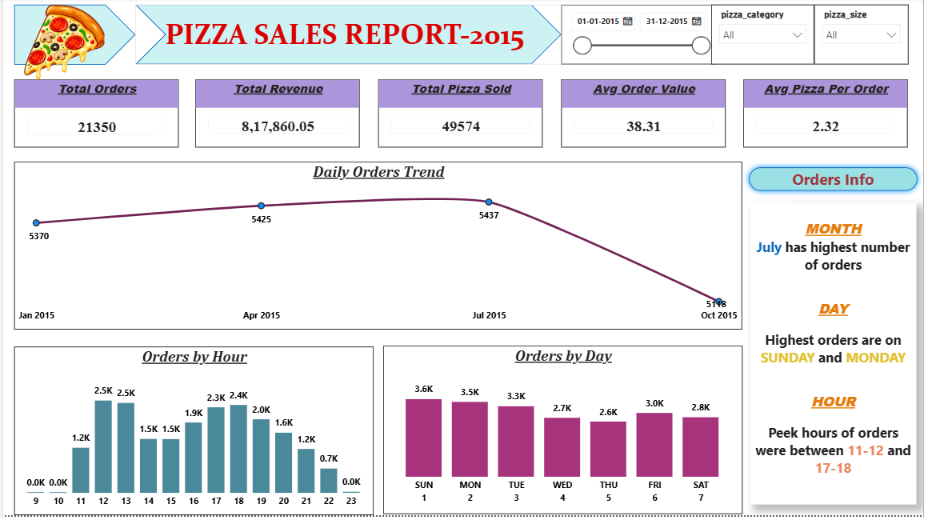

This screenshot's page, from the dashboard's own definition file:
{"tool":"powerbi","page":{"name":"Overview","canvas":[1280,720],"ordinal":0},"visuals":[{"type":"cardVisual","title":"Total Orders","fields":{"Data":["Measures Table.Total Orders"]},"box":[15.1,113.9,229.2,94.7],"z":0},{"type":"cardVisual","title":"Total Revenue","fields":{"Data":["Measures Table.Total Revenue"]},"box":[267,113.6,229.2,94],"z":1000},{"type":"cardVisual","title":"Avg Order Value","fields":{"Data":["Measures Table.Avg Order Value"]},"box":[776.1,113.6,229.2,94],"z":2000},{"type":"cardVisual","title":"Avg Pizza Per Order","fields":{"Data":["Measures Table.Avg pizza per order"]},"box":[1030,113.6,229.2,94],"z":3000},{"type":"cardVisual","title":"Total Pizza Sold","fields":{"Data":["Measures Table.Total Pizza Sold"]},"box":[522.3,113.6,229.2,94],"z":4000},{"type":"shape","box":[15.1,9.3,168.8,83.7],"z":5000},{"type":"shape","box":[183.4,9.8,593.1,83.2],"z":6000},{"type":"textbox","box":[15,313,229,150],"z":7000},{"type":"image","box":[0,9.7,168.8,104.3],"z":8000},{"type":"lineChart","title":"Daily Orders Trend","fields":{"Y":["Count(pizza_sales pizza_sales_raw.order_id)"],"Category":["pizza_sales pizza_sales_raw.order_date.Variation.Date Hierarchy.Year","pizza_sales pizza_sales_raw.order_date.Variation.Date Hierarchy.Quarter","pizza_sales pizza_sales_raw.order_date.Variation.Date Hierarchy.Month","pizza_sales pizza_sales_raw.order_date.Variation.Date Hierarchy.Day"]},"box":[15.3,228.2,1012.9,233.7],"z":9000},{"type":"columnChart","title":"Orders by Day","fields":{"Category":["pizza_sales pizza_sales_raw.Day Number","pizza_sales pizza_sales_raw.Day short"],"Y":["Measures Table.Total Orders"]},"box":[528.7,484.2,500,234.6],"z":10000},{"type":"columnChart","title":"Orders by Hour","fields":{"Y":["Measures Table.Total Orders"],"Category":["pizza_sales pizza_sales_raw.hour"]},"box":[15.1,485.8,500,234.6],"z":11000},{"type":"slicer","fields":{"Values":["pizza_sales pizza_sales_raw.order_date"]},"box":[776.5,9.8,216.4,83.2],"z":12000},{"type":"slicer","fields":{"Values":["pizza_sales pizza_sales_raw.pizza_category"]},"box":[985.6,9.8,143.1,83.2],"z":13000},{"type":"slicer","fields":{"Values":["pizza_sales pizza_sales_raw.pizza_Regularize"]},"box":[1128.7,9.8,130.8,83.2],"z":14000},{"type":"shape","box":[1029.6,228.2,250.4,48.7],"z":15000},{"type":"textbox","box":[1039.3,285.2,231,420.2],"z":16000}]}

Visuals, with their boxes in screenshot pixels (x1, y1, x2, y2), scaled from the page's 1280x720 canvas onto the 925x518 screenshot:
"Total Orders" cardVisual: x1=11 y1=82 x2=177 y2=150
"Total Revenue" cardVisual: x1=193 y1=82 x2=359 y2=149
"Avg Order Value" cardVisual: x1=561 y1=82 x2=726 y2=149
"Avg Pizza Per Order" cardVisual: x1=744 y1=82 x2=910 y2=149
"Total Pizza Sold" cardVisual: x1=377 y1=82 x2=543 y2=149
shape: x1=11 y1=7 x2=133 y2=67
shape: x1=133 y1=7 x2=561 y2=67
textbox: x1=11 y1=225 x2=176 y2=333
image: x1=0 y1=7 x2=122 y2=82
"Daily Orders Trend" lineChart: x1=11 y1=164 x2=743 y2=332
"Orders by Day" columnChart: x1=382 y1=348 x2=743 y2=517
"Orders by Hour" columnChart: x1=11 y1=350 x2=372 y2=517
slicer - pizza_sales pizza_sales_raw.order_date: x1=561 y1=7 x2=718 y2=67
slicer - pizza_sales pizza_sales_raw.pizza_category: x1=712 y1=7 x2=816 y2=67
slicer - pizza_sales pizza_sales_raw.pizza_Regularize: x1=816 y1=7 x2=910 y2=67
shape: x1=744 y1=164 x2=924 y2=199
textbox: x1=751 y1=205 x2=918 y2=507
